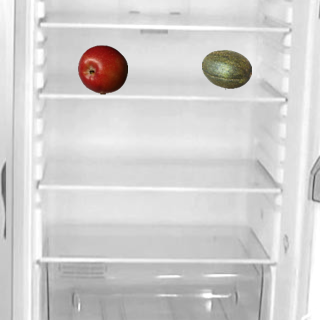Apple Braeburn: (77, 44, 127, 94)
Melon Piel de Sapo: (201, 44, 251, 94)
